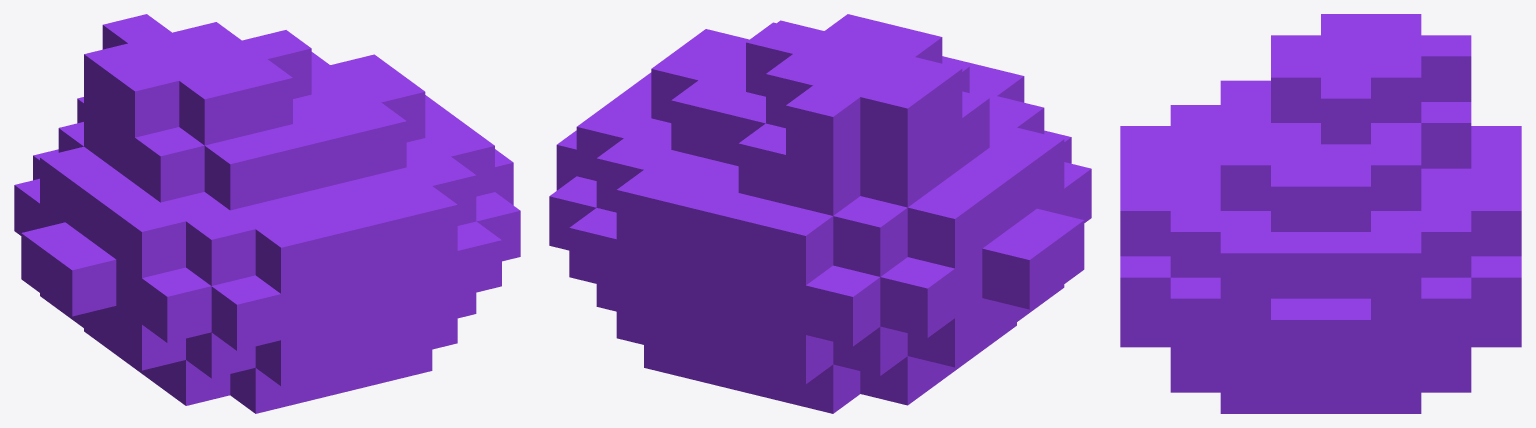
Rendered from item_ARCANE_RESIN.glb.
3 renders of one model, left to right at view 1: azimuth 30°, elevation 25°; view 2: azimuth 150°, elevation 25°; view 3: azimuth 270°, elevation 25°, orthographic. The views are drawn at different scales.
Visible parts, largest first — view 1: item_ARCANE_RESIN; view 2: item_ARCANE_RESIN; view 3: item_ARCANE_RESIN.
Part boxes in pixels (x1,y1,x2,y2): item_ARCANE_RESIN: (14, 14, 520, 413); item_ARCANE_RESIN: (549, 14, 1091, 413); item_ARCANE_RESIN: (1120, 14, 1521, 413).
Size of the model in its own units: 0.2273 by 0.1364 by 0.1818.
1 material, 1 textured.
